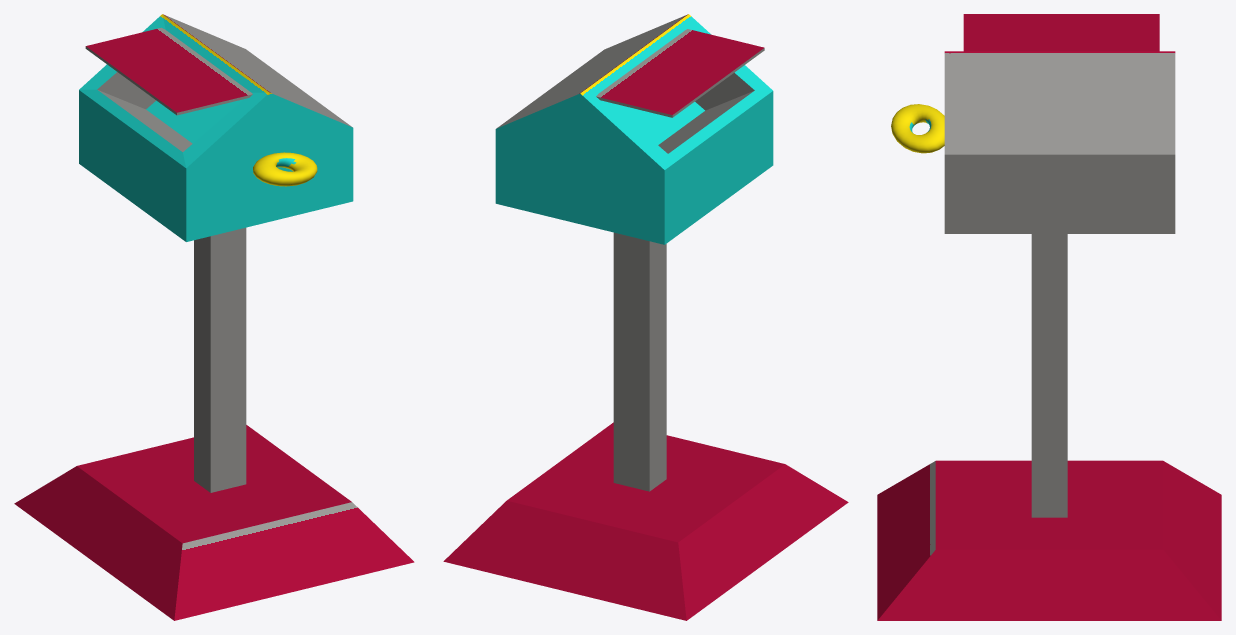
The model's file is mailbox.fbx.
The picture shows the model from 3 angles, left to right: view 1: azimuth 30°, elevation 25°; view 2: azimuth 150°, elevation 25°; view 3: azimuth 270°, elevation 25°; orthographic projection. The views are drawn at different scales.
Parts seen in each view (by area): view 1: pCube7; view 2: pCube7; view 3: pCube7.
Boxes of the visible parts, x1,y1,x2,y2 form: pCube7: (14,14,414,620); pCube7: (443,14,848,620); pCube7: (877,14,1221,620).
Size of the model in its own units: 105 by 197 by 121.
Materials: 1 (1 with a texture image).
